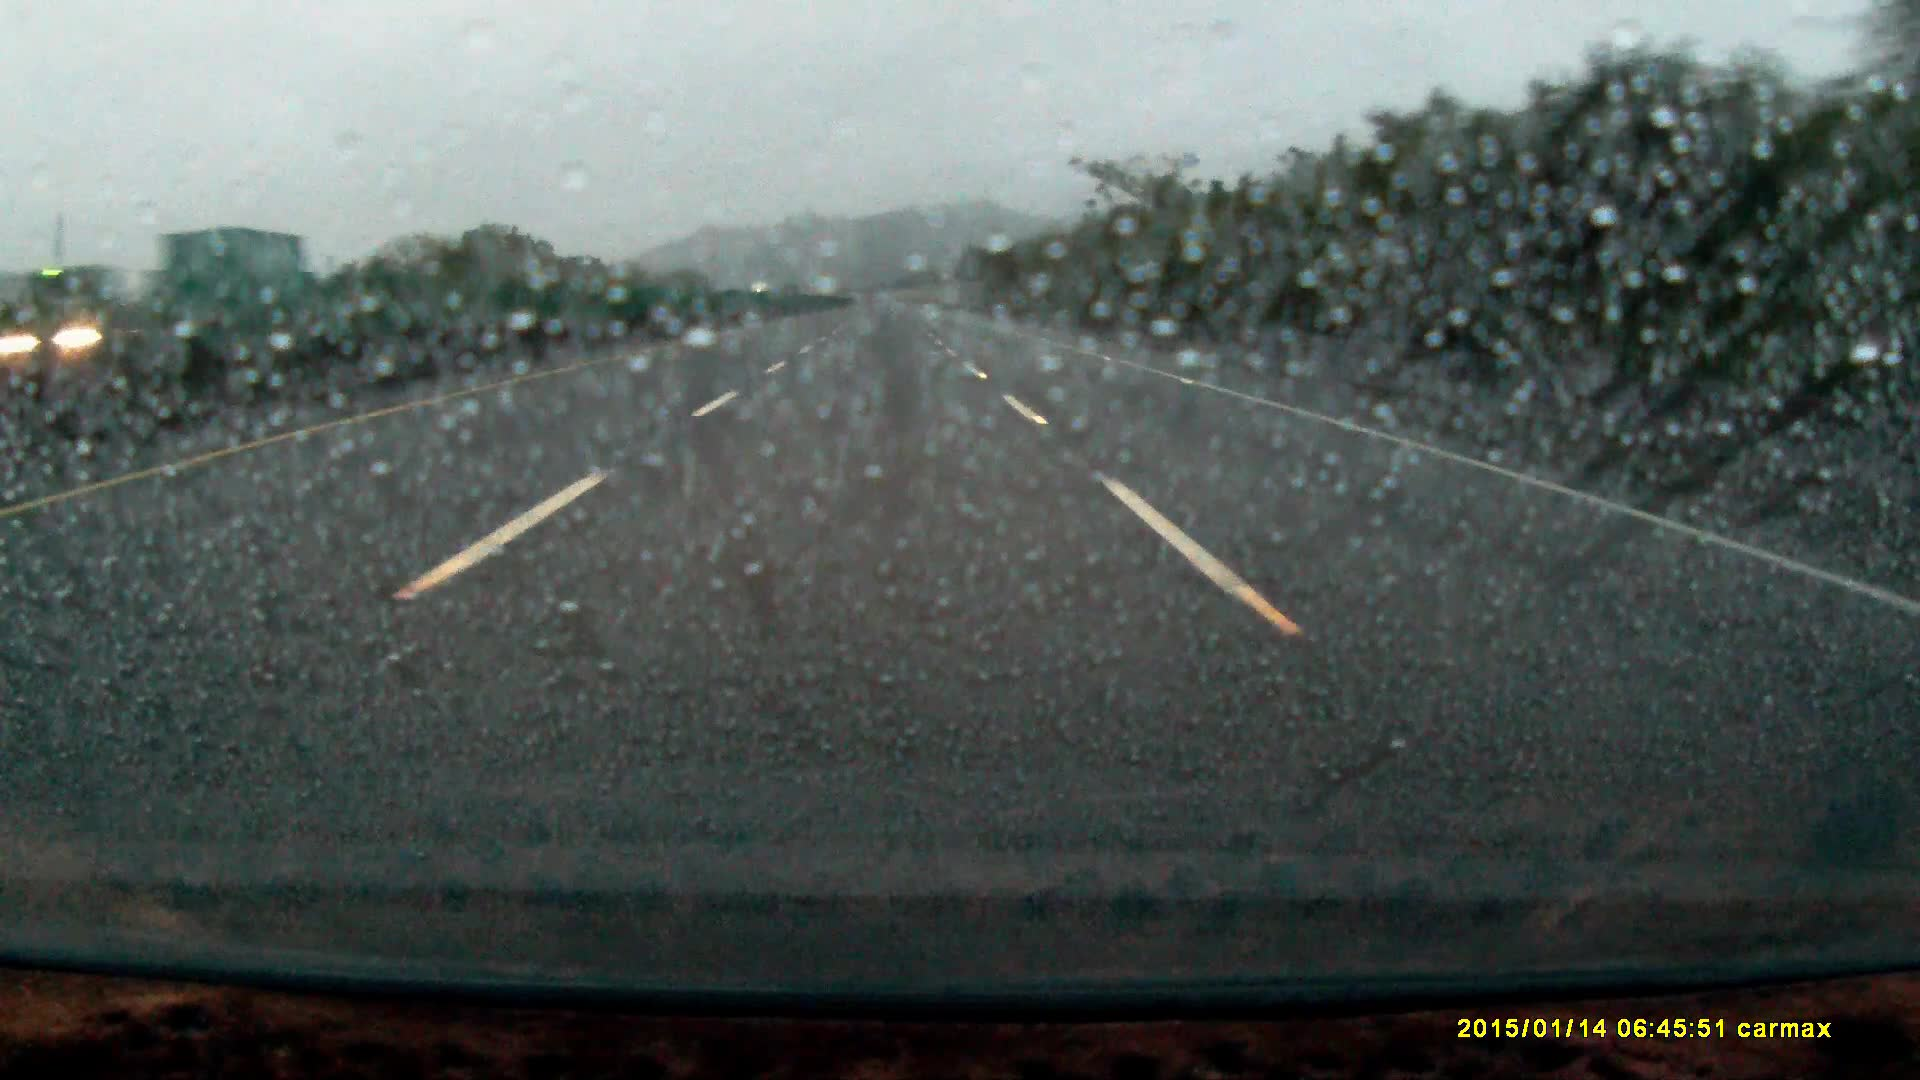vehicle: (18, 233, 322, 415)
